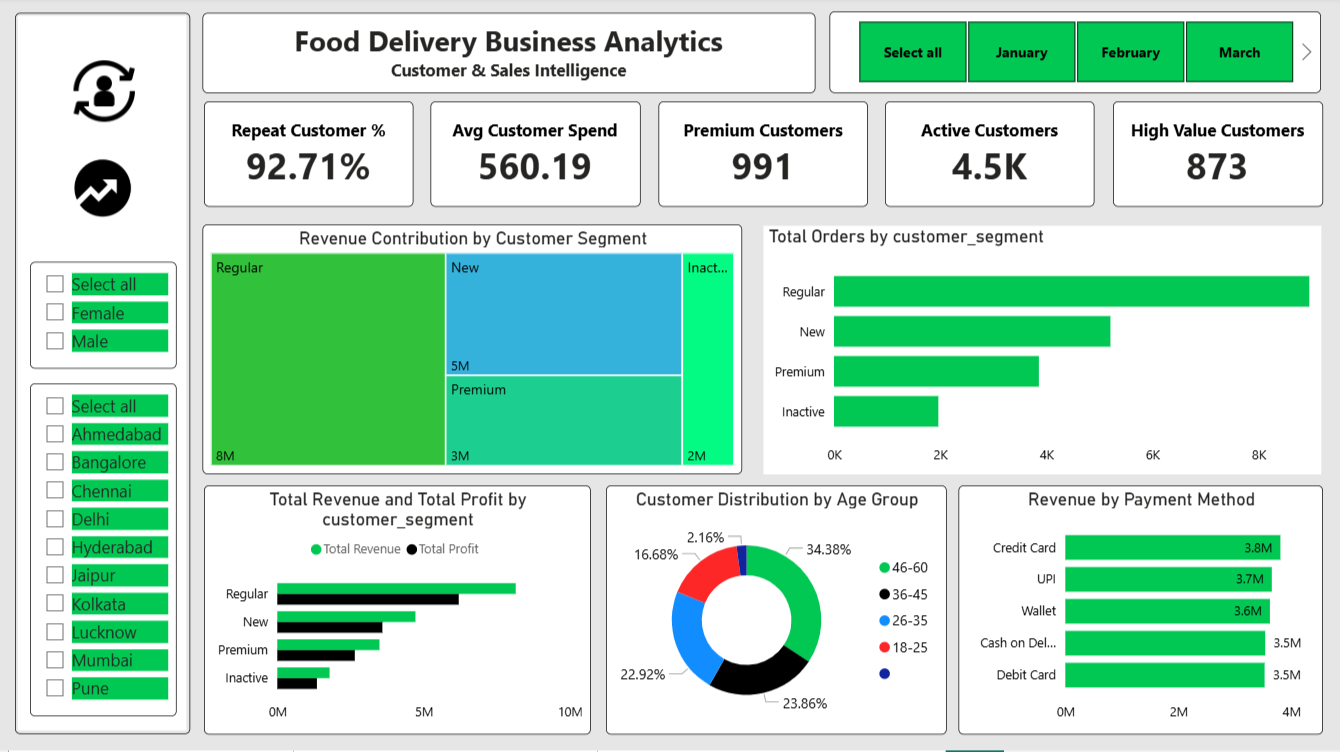

What the dashboard file says about the page in this screenshot:
{"tool":"powerbi","page":{"name":"Customer & Sales Intelligence","canvas":[1280,720],"ordinal":1},"visuals":[{"type":"textbox","box":[194.1,15.9,585.3,76.3],"z":0},{"type":"shape","box":[14.3,15.9,167,688.7],"z":1000},{"type":"slicer","fields":{"Values":["orders_cleaned.city"]},"box":[28.6,370,140,318.1],"z":2000},{"type":"slicer","fields":{"Values":["orders_cleaned.Month Name"]},"box":[792.1,15,469.2,77.9],"z":3000},{"type":"slicer","fields":{"Values":["customers_cleaned.gender"]},"box":[28.6,252.9,140,101.8],"z":4000},{"type":"cardVisual","fields":{"Data":["customers_cleaned.Repeat Customer %"]},"box":[194.3,100.4,200,100.4],"z":5000},{"type":"cardVisual","fields":{"Data":["customers_cleaned.Avg Customer Spend"]},"box":[411.1,100.4,200.8,100.4],"z":6000},{"type":"cardVisual","fields":{"Data":["customers_cleaned.Premium Customers"]},"box":[628.7,100.4,200,100.4],"z":7000},{"type":"cardVisual","fields":{"Data":["customers_cleaned.Active Customers"]},"box":[845.4,100.4,200,100.4],"z":8000},{"type":"cardVisual","fields":{"Data":["customers_cleaned.High Value Customers"]},"box":[1062.2,100.4,200.8,100.4],"z":9000},{"type":"barChart","title":"Revenue by Payment Method","fields":{"Category":["orders_cleaned.payment_method"],"Y":["orders_cleaned.Total Revenue"]},"box":[914.9,466.3,348.1,238],"z":10000},{"type":"treemap","title":"Revenue Contribution by Customer Segment","fields":{"Values":["orders_cleaned.Total Revenue"],"Group":["customers_cleaned.customer_segment"]},"box":[194.1,217.9,515.4,238.6],"z":11000},{"type":"donutChart","title":"Customer Distribution by Age Group","fields":{"Category":["customers_cleaned.age_group"],"Y":["Count(customers_cleaned.customer_id)"]},"box":[578.1,466.3,325.5,238],"z":12000},{"type":"clusteredBarChart","fields":{"Y":["orders_cleaned.Total Revenue","orders_cleaned.Total Profit"],"Category":["customers_cleaned.customer_segment"]},"box":[194.3,466.3,369.2,238],"z":13000},{"type":"image","box":[63.6,151.1,70,65.2],"z":14000},{"type":"image","box":[70,54.1,58.9,71.6],"z":15000},{"type":"barChart","fields":{"Category":["customers_cleaned.customer_segment"],"Y":["orders_cleaned.Total Orders"]},"box":[728.5,219.5,532.9,237],"z":16000}]}

Visuals, with their boxes in screenshot pixels (x1, y1, x2, y2), scaled from the page's 1280x720 canvas onto the 1340x752 screenshot:
textbox: bbox(203, 17, 816, 96)
shape: bbox(15, 17, 190, 736)
slicer - orders_cleaned.city: bbox(30, 386, 177, 719)
slicer - orders_cleaned.Month Name: bbox(829, 16, 1320, 97)
slicer - customers_cleaned.gender: bbox(30, 264, 177, 370)
cardVisual - customers_cleaned.Repeat Customer %: bbox(203, 105, 413, 210)
cardVisual - customers_cleaned.Avg Customer Spend: bbox(430, 105, 641, 210)
cardVisual - customers_cleaned.Premium Customers: bbox(658, 105, 868, 210)
cardVisual - customers_cleaned.Active Customers: bbox(885, 105, 1094, 210)
cardVisual - customers_cleaned.High Value Customers: bbox(1112, 105, 1322, 210)
"Revenue by Payment Method" barChart: bbox(958, 487, 1322, 736)
"Revenue Contribution by Customer Segment" treemap: bbox(203, 228, 743, 477)
"Customer Distribution by Age Group" donutChart: bbox(605, 487, 946, 736)
clusteredBarChart - orders_cleaned.Total Revenue x orders_cleaned.Total Profit: bbox(203, 487, 590, 736)
image: bbox(67, 158, 140, 226)
image: bbox(73, 57, 135, 131)
barChart - customers_cleaned.customer_segment x orders_cleaned.Total Orders: bbox(763, 229, 1321, 477)
